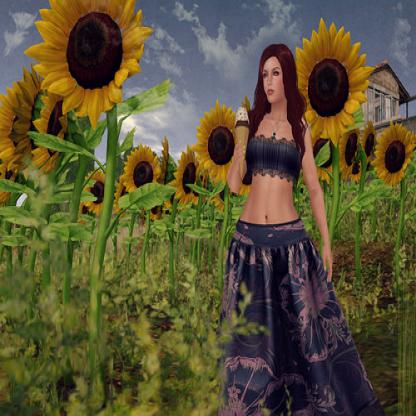SUN FLOWER: (10, 5, 182, 229), (287, 12, 416, 184)
